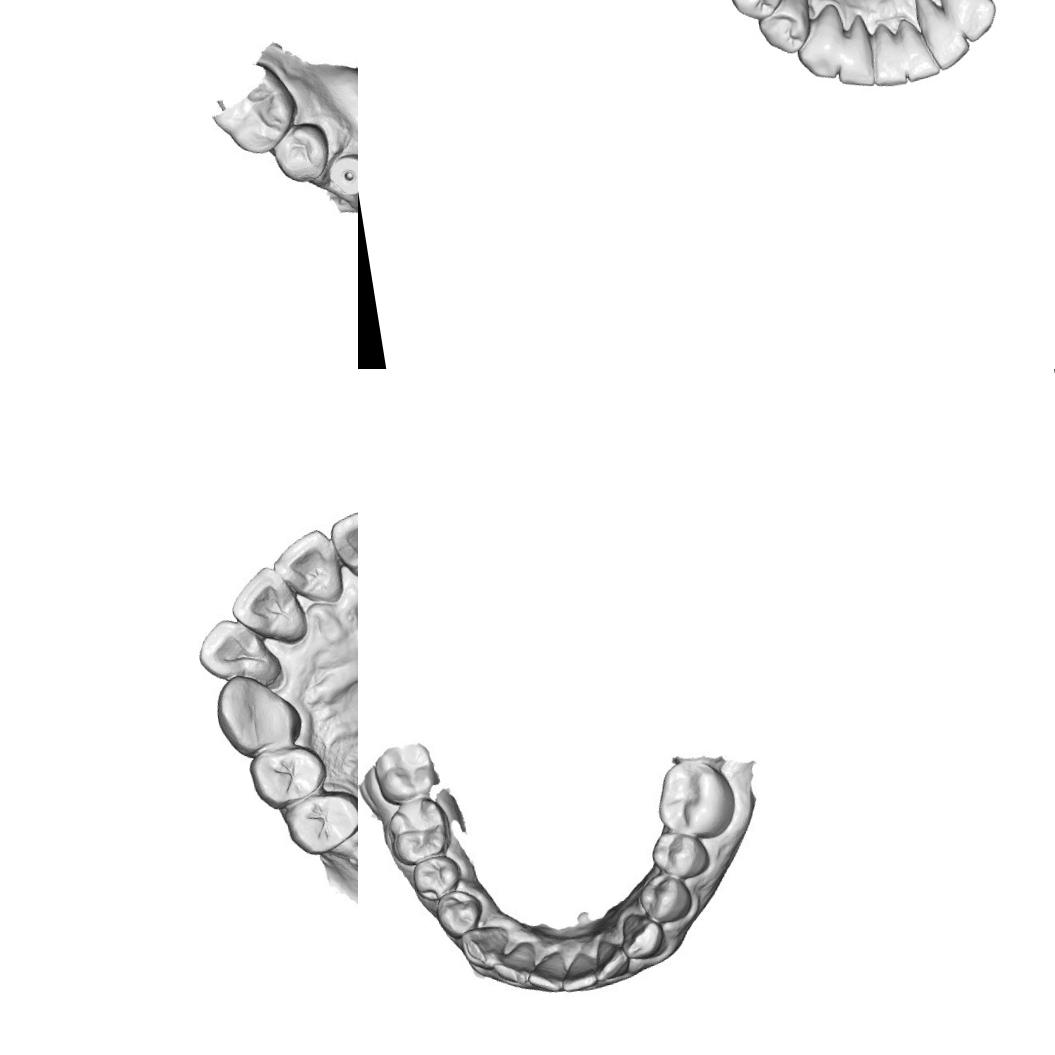canine: (212, 670, 303, 758), (790, 2, 852, 84), (616, 905, 671, 966), (935, 0, 1000, 46), (456, 922, 510, 974)
implant: (326, 150, 358, 199)
incisor: (194, 610, 285, 693), (225, 564, 306, 654), (269, 527, 346, 608), (912, 0, 972, 73), (828, 13, 878, 92), (318, 504, 358, 590), (896, 14, 942, 82), (864, 19, 908, 89), (527, 950, 568, 990), (496, 946, 536, 983), (590, 936, 626, 974), (561, 954, 595, 988)
molar: (205, 56, 305, 163), (656, 756, 737, 844), (378, 791, 456, 870)
premolar: (244, 739, 329, 812), (280, 784, 358, 859), (270, 119, 342, 186), (750, 0, 816, 58), (650, 826, 712, 880), (408, 851, 470, 905), (636, 873, 694, 925), (438, 888, 486, 940), (721, 0, 788, 25)
